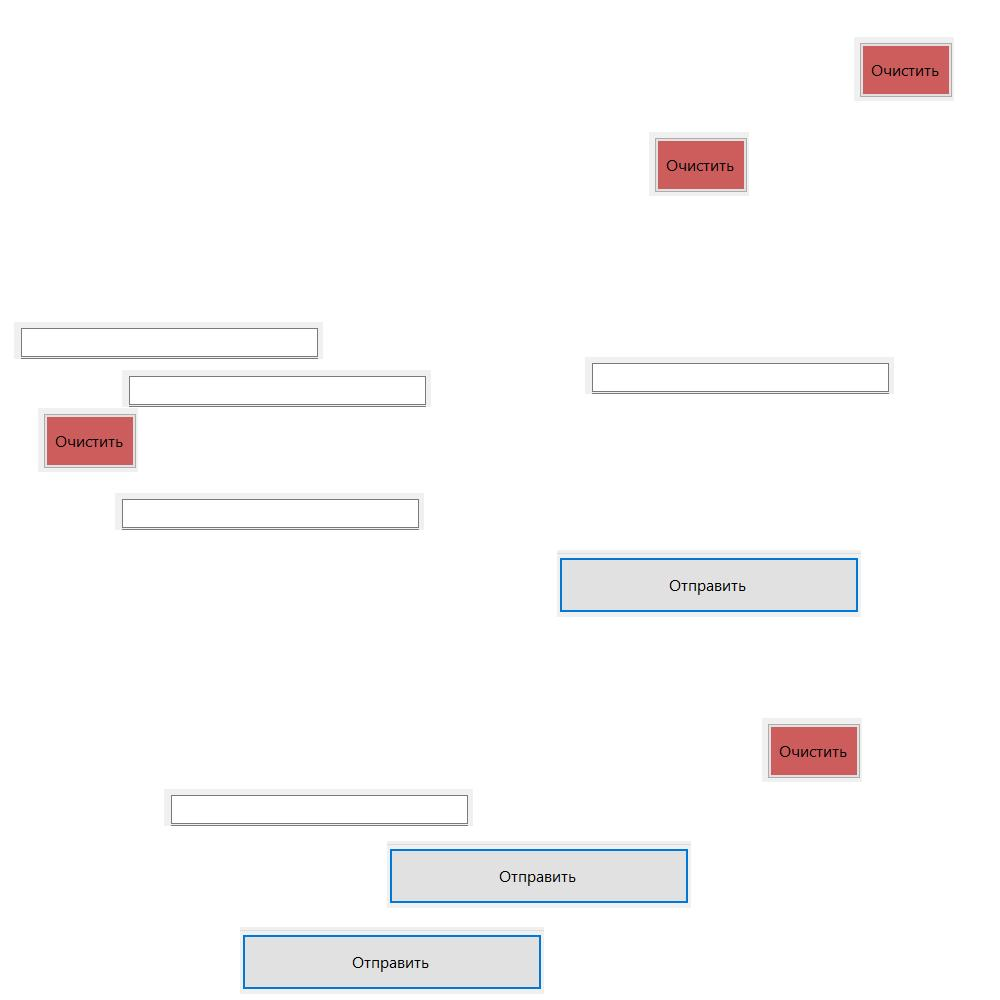Button: (387, 841, 691, 908), (557, 550, 861, 617), (240, 927, 544, 994), (762, 718, 862, 782), (38, 408, 138, 472), (649, 132, 749, 196), (854, 37, 954, 101)
EditText-: (115, 493, 424, 530), (122, 370, 431, 407), (585, 357, 894, 394), (14, 322, 323, 359), (164, 789, 473, 826)
